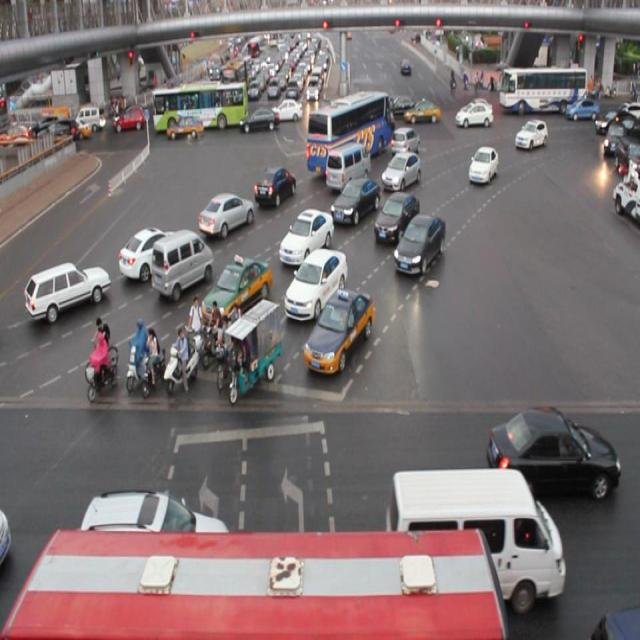car: (487, 401, 620, 501), (83, 488, 233, 563), (303, 290, 375, 372), (25, 262, 109, 323), (202, 256, 274, 325), (283, 247, 347, 322), (277, 206, 336, 266), (118, 226, 181, 281), (393, 214, 446, 275), (197, 190, 254, 237), (329, 177, 381, 225), (374, 191, 418, 242), (252, 166, 296, 206), (381, 149, 420, 191), (468, 146, 498, 183), (513, 118, 547, 150), (390, 124, 420, 155)
truck: (388, 468, 564, 612), (153, 228, 215, 298), (325, 143, 372, 185)
van: (1, 521, 507, 640), (306, 92, 392, 170)
